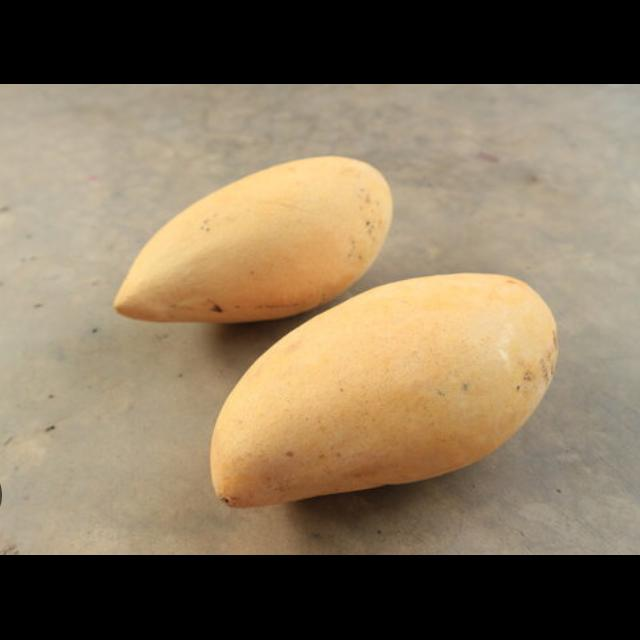mango: (207, 271, 559, 510), (111, 155, 394, 327)
